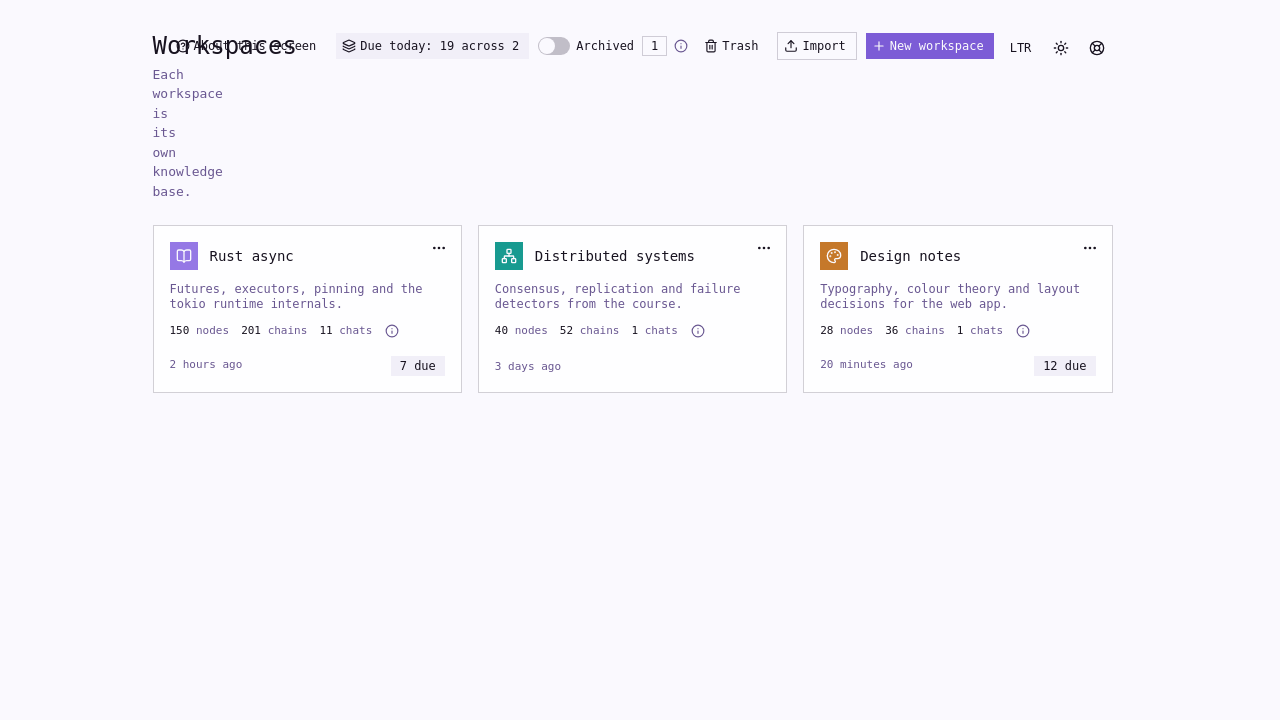
Test: create and edit › validates the name live: required, unique case-insensitively, then enables submit
Click the button with test id "new-workspace".
click(930, 46)  # box [865, 32, 995, 60]
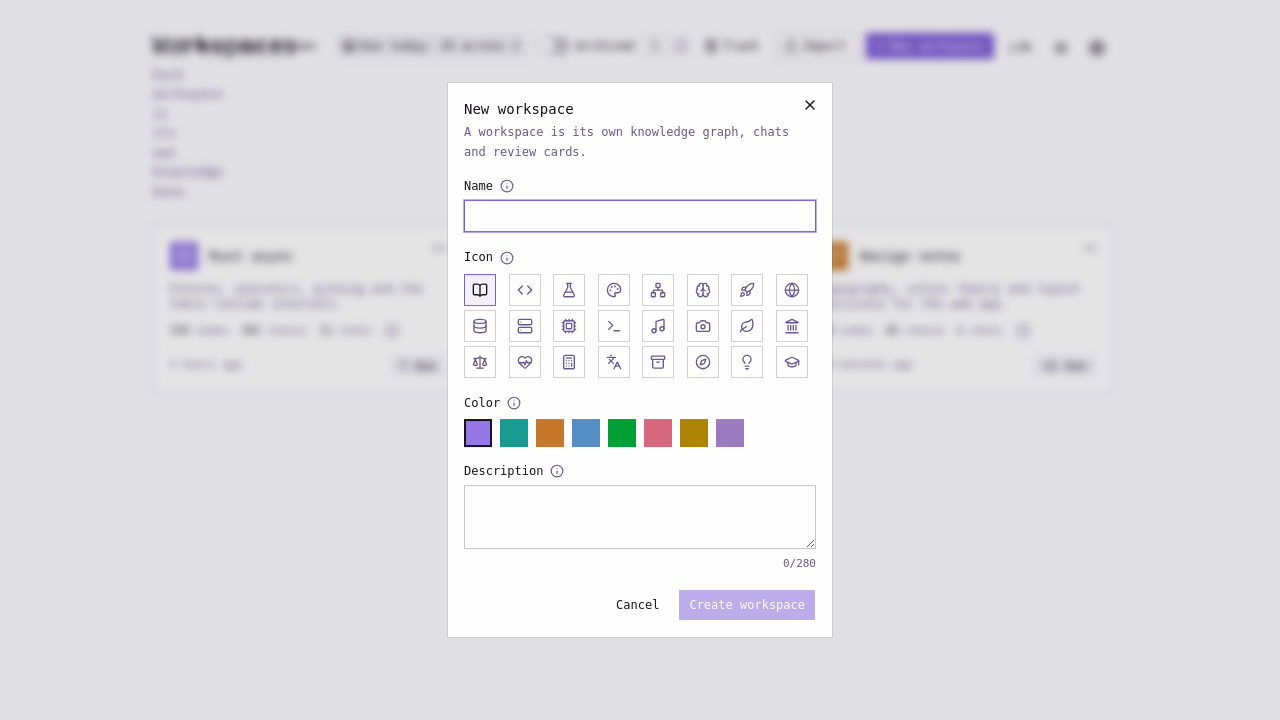
Type "x" into the field with test id "ws-name-input".
click(640, 216); type("x")  # box [464, 200, 816, 232]
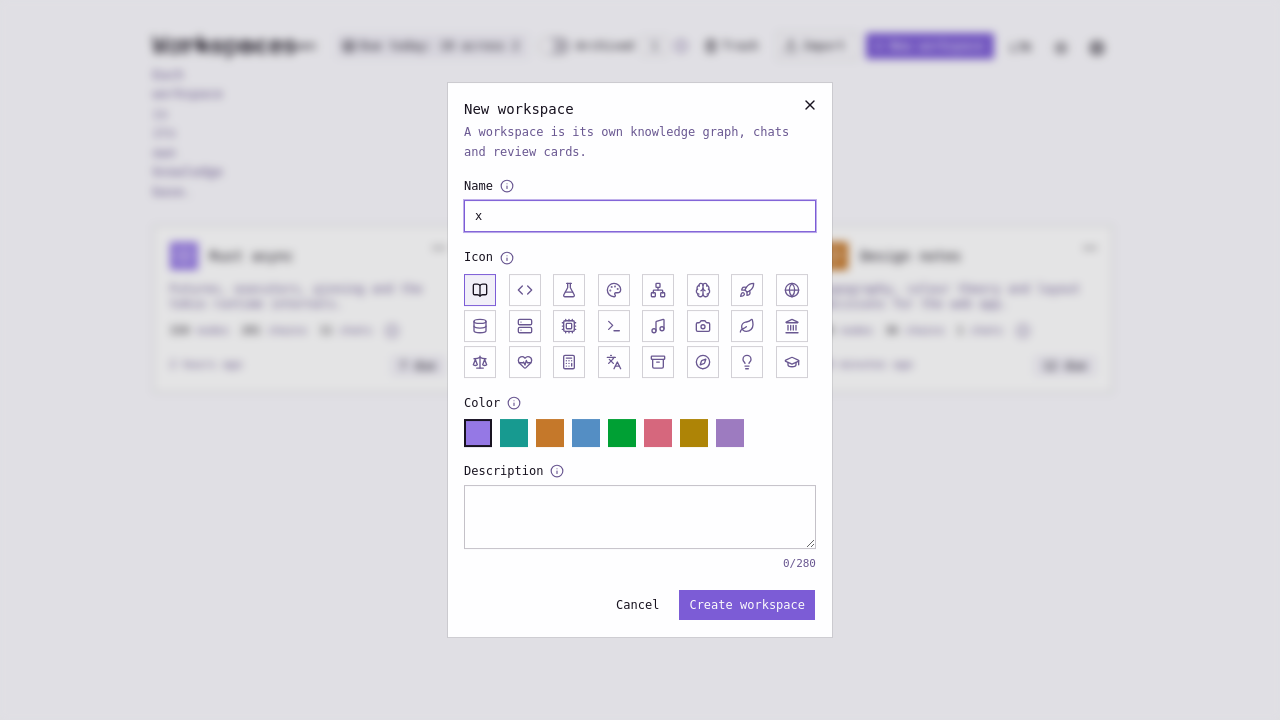
Clear the field with test id "ws-name-input" at [640, 216], box [464, 200, 816, 232]
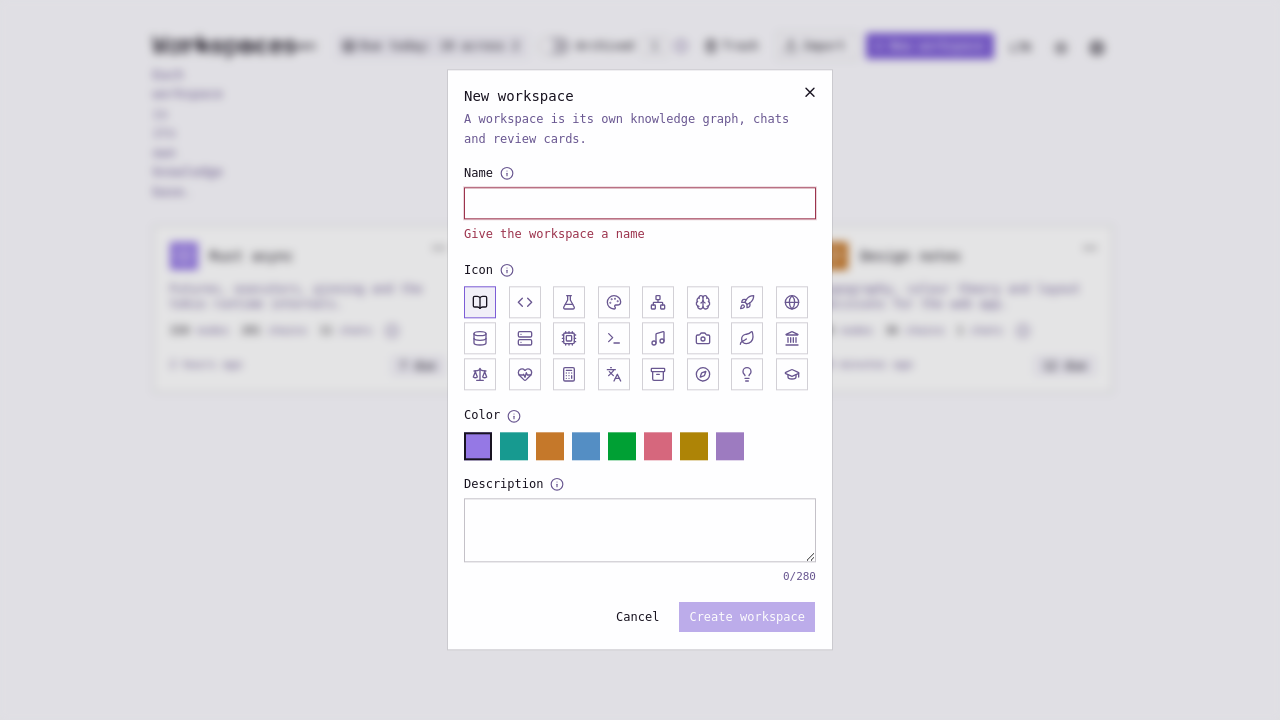
Check: the message with test id "ws-name-error" reads "Give the workspace a name", box [464, 227, 645, 241]
Check: the button with test id "ws-submit" is disabled, box [678, 602, 816, 634]
Type "RUST ASYNC" into the field with test id "ws-name-input".
click(640, 203); type("RUST ASYNC")  # box [464, 187, 816, 219]
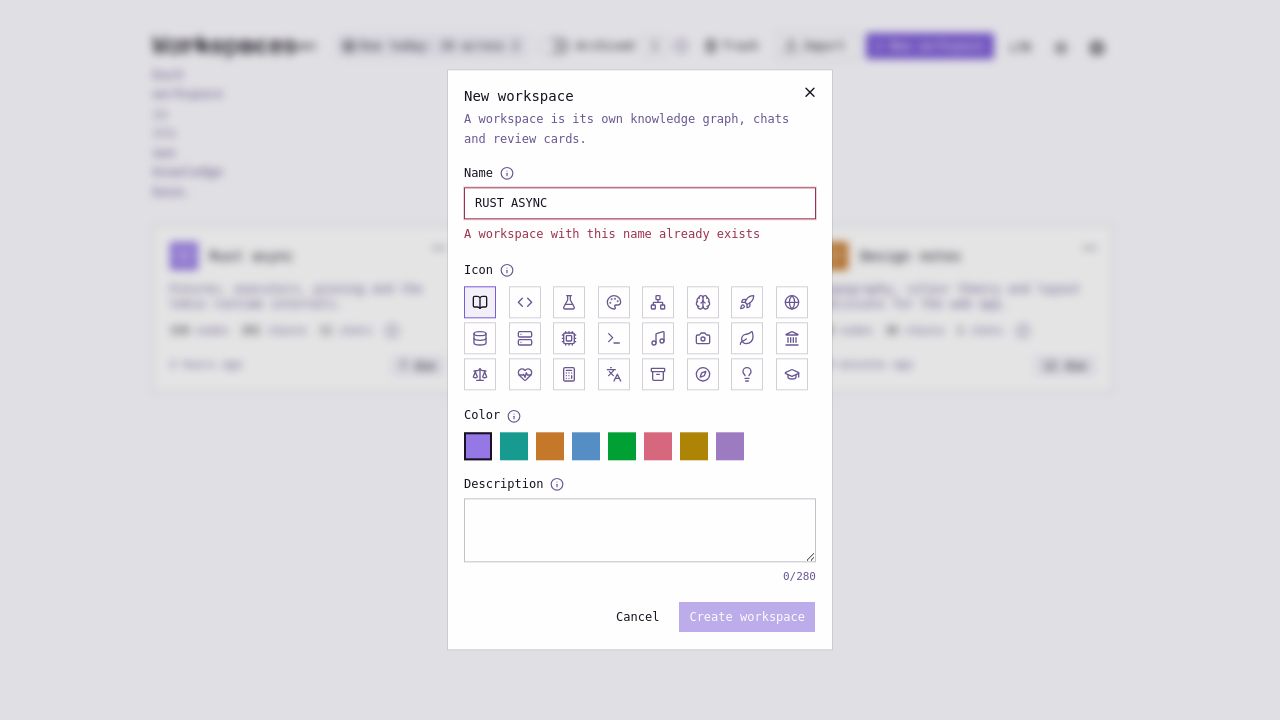
Check: the button with test id "ws-submit" is disabled, box [678, 602, 816, 634]
Check: the message with test id "ws-name-error" shows "already exists", box [464, 227, 760, 241]
Replace the text in the field with test id "ws-name-input" with "Type theory" at [640, 203], box [464, 187, 816, 219]
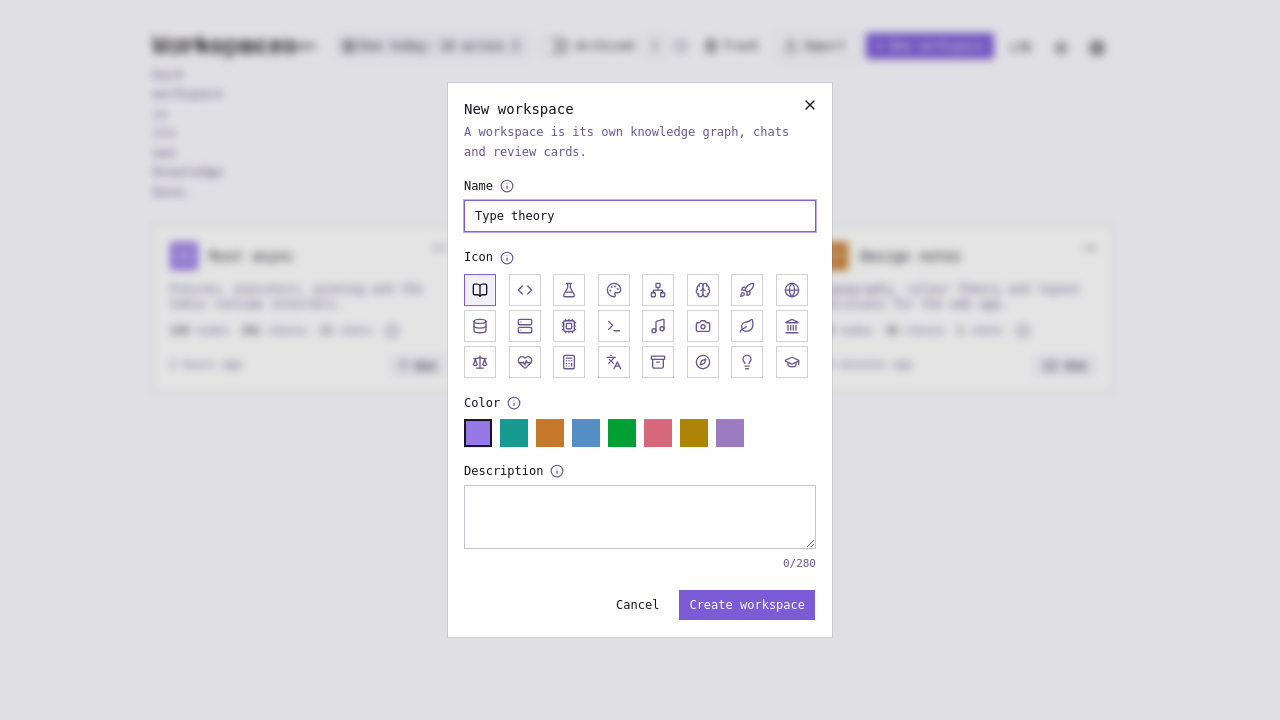
Check: the button with test id "ws-submit" is enabled, box [678, 589, 816, 621]
Check: the message with test id "ws-name-error" is gone
